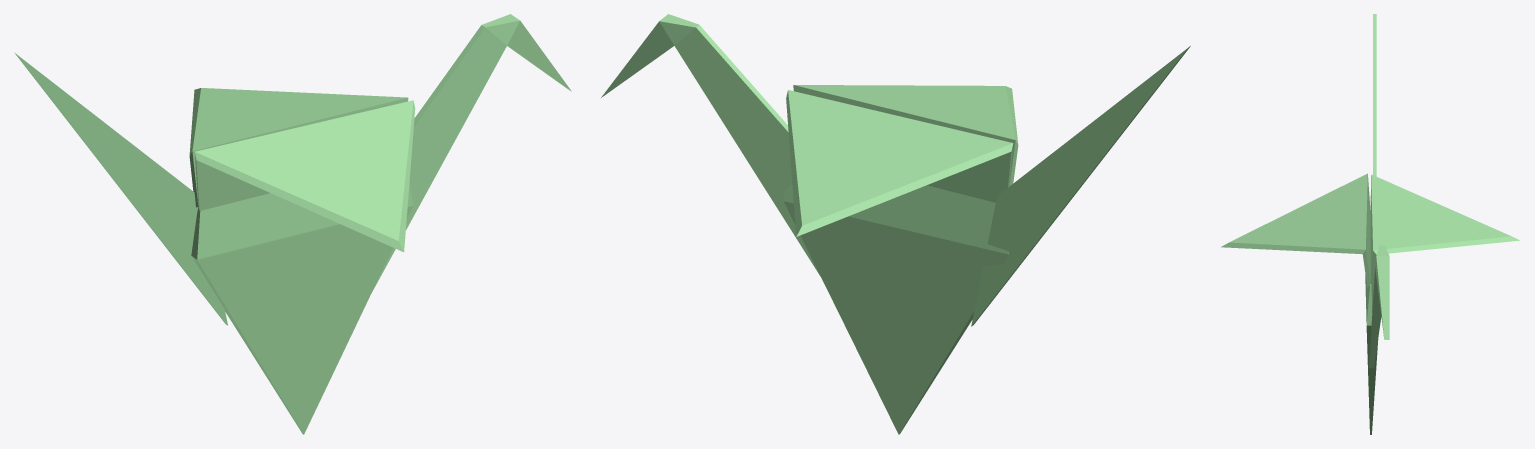
The model's file is origami_oiseau.fbx.
3 views of the same model, side by side, from view 1: azimuth 30°, elevation 25°; view 2: azimuth 150°, elevation 25°; view 3: azimuth 270°, elevation 25° (orthographic). The views are drawn at different scales.
Parts seen in each view (by area): view 1: oiseau1, oiseau4, oiseau2, oiseau3, oiseau5; view 2: oiseau1, oiseau5, oiseau2, oiseau3, oiseau4; view 3: oiseau4, oiseau5, oiseau3, oiseau1, oiseau2.
Part boxes in pixels (x1=…): oiseau1: x1=191, y1=182, x2=413, y2=434; oiseau4: x1=194, y1=100, x2=415, y2=252; oiseau2: x1=14, y1=52, x2=227, y2=325; oiseau3: x1=373, y1=14, x2=571, y2=289; oiseau5: x1=189, y1=88, x2=408, y2=207; oiseau1: x1=783, y1=185, x2=1008, y2=434; oiseau5: x1=786, y1=90, x2=1013, y2=236; oiseau2: x1=971, y1=46, x2=1190, y2=326; oiseau3: x1=601, y1=14, x2=820, y2=276; oiseau4: x1=793, y1=85, x2=1018, y2=186; oiseau4: x1=1221, y1=173, x2=1370, y2=287; oiseau5: x1=1370, y1=174, x2=1519, y2=284; oiseau3: x1=1369, y1=245, x2=1389, y2=368; oiseau1: x1=1365, y1=274, x2=1377, y2=434; oiseau2: x1=1373, y1=14, x2=1376, y2=176.
Bounding box in the file's own units: 16.24 × 12.37 × 10.47.
